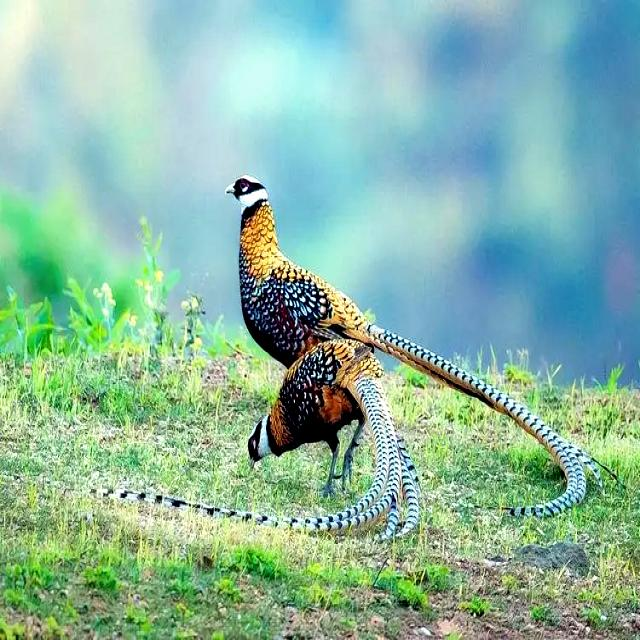Reeves-s Pheasant: (78, 375, 424, 542), (364, 319, 628, 517)
